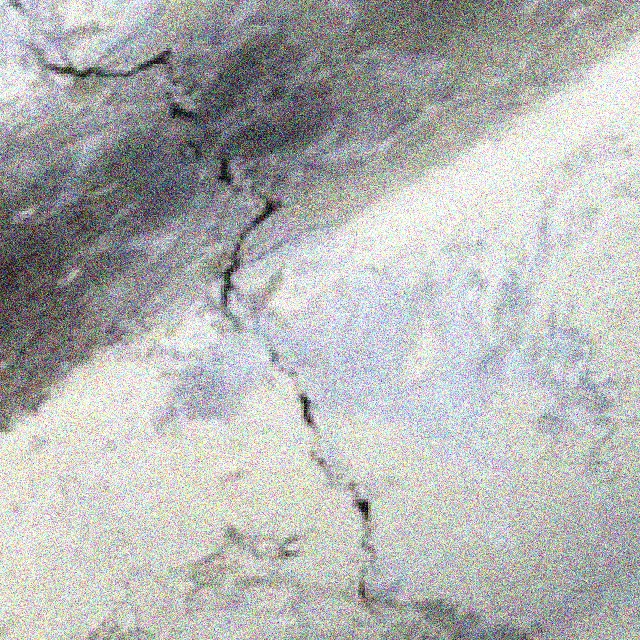SurfaceCrack: (52, 24, 432, 568)
